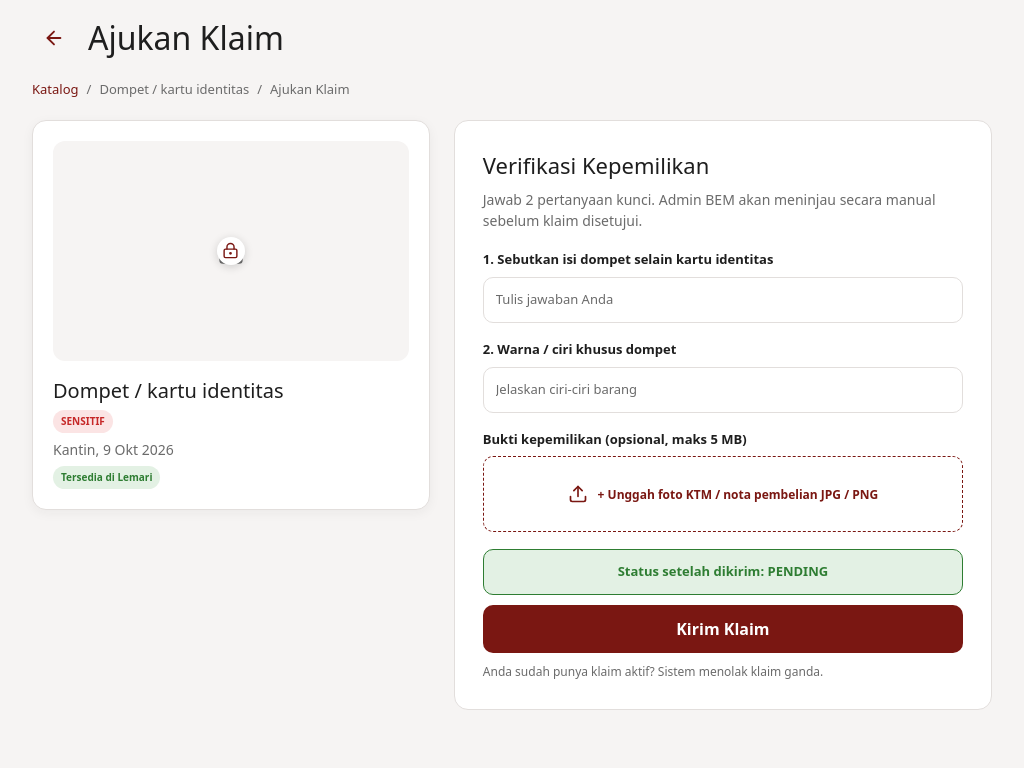
Test case: ClaimPage › stores a pending claim locally and navigates to profile history
The width and height of the screenshot is (1024, 768).
Type "Kartu ATM dan struk" into the field labelled "1. Sebutkan isi dompet selain kartu identitas" at x=723, y=300, box [483,277,963,323]
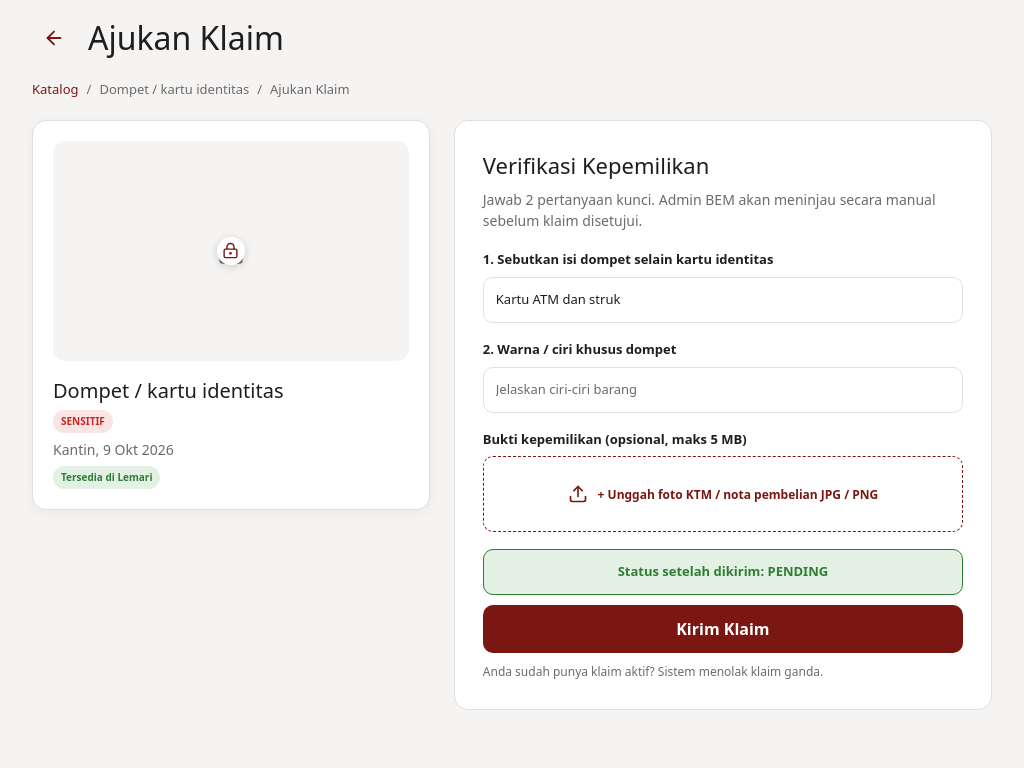
Type "Hitam dengan gantungan kunci kecil" into the field labelled "2. Warna / ciri khusus dompet" at x=723, y=390, box [483,367,963,413]
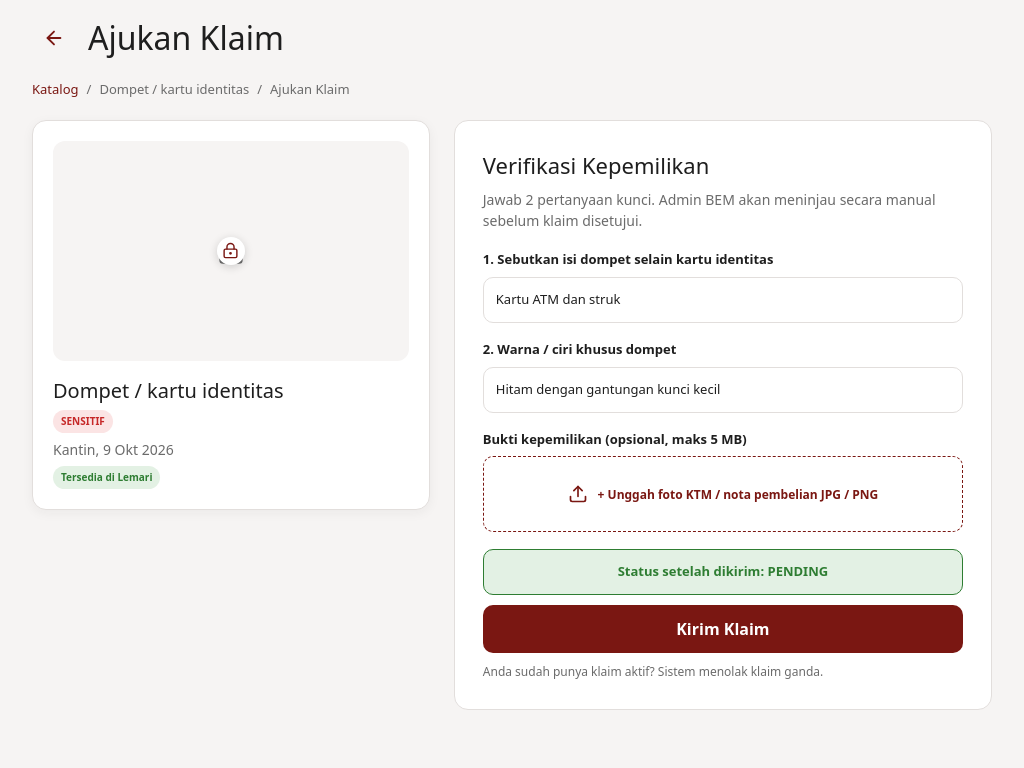
Click the button "Kirim Klaim" at x=723, y=629, box [483,605,963,653]
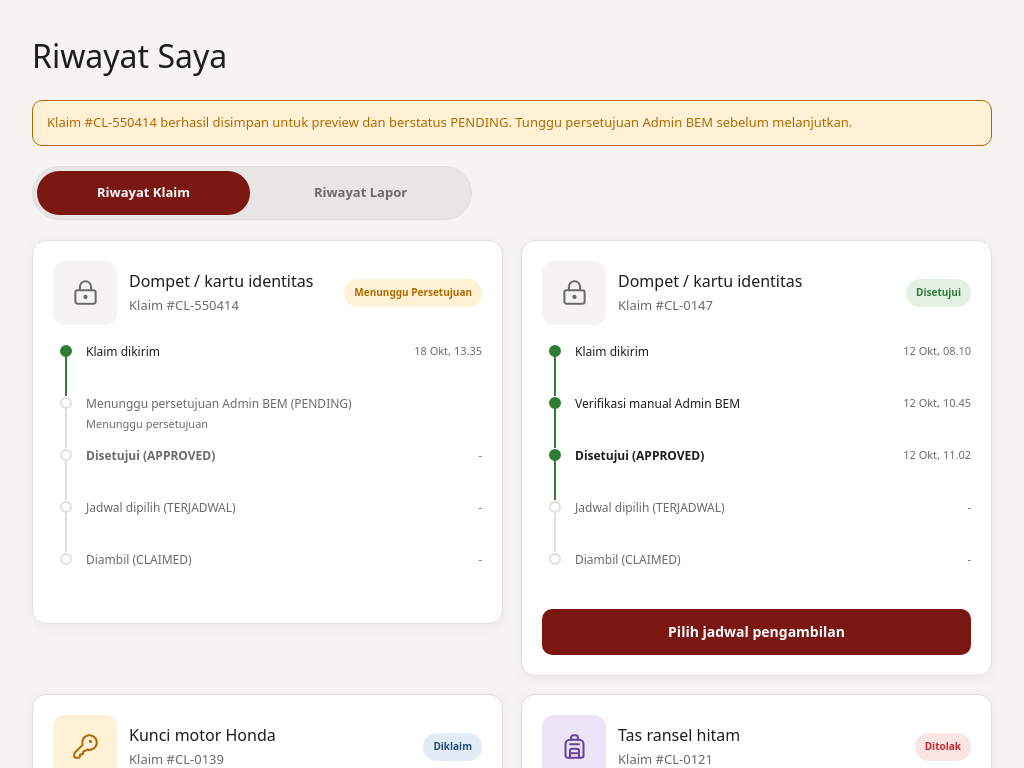
expect the heading "Riwayat Saya" is shown: met, box [32,34,227,77]
expect the text "berstatus PENDING. Tunggu persetujuan Admin BEM" is shown: met, box [157,113,852,131]
expect the text "Menunggu persetujuan Admin BEM (PENDING)" is shown: met, box [86,394,352,412]
